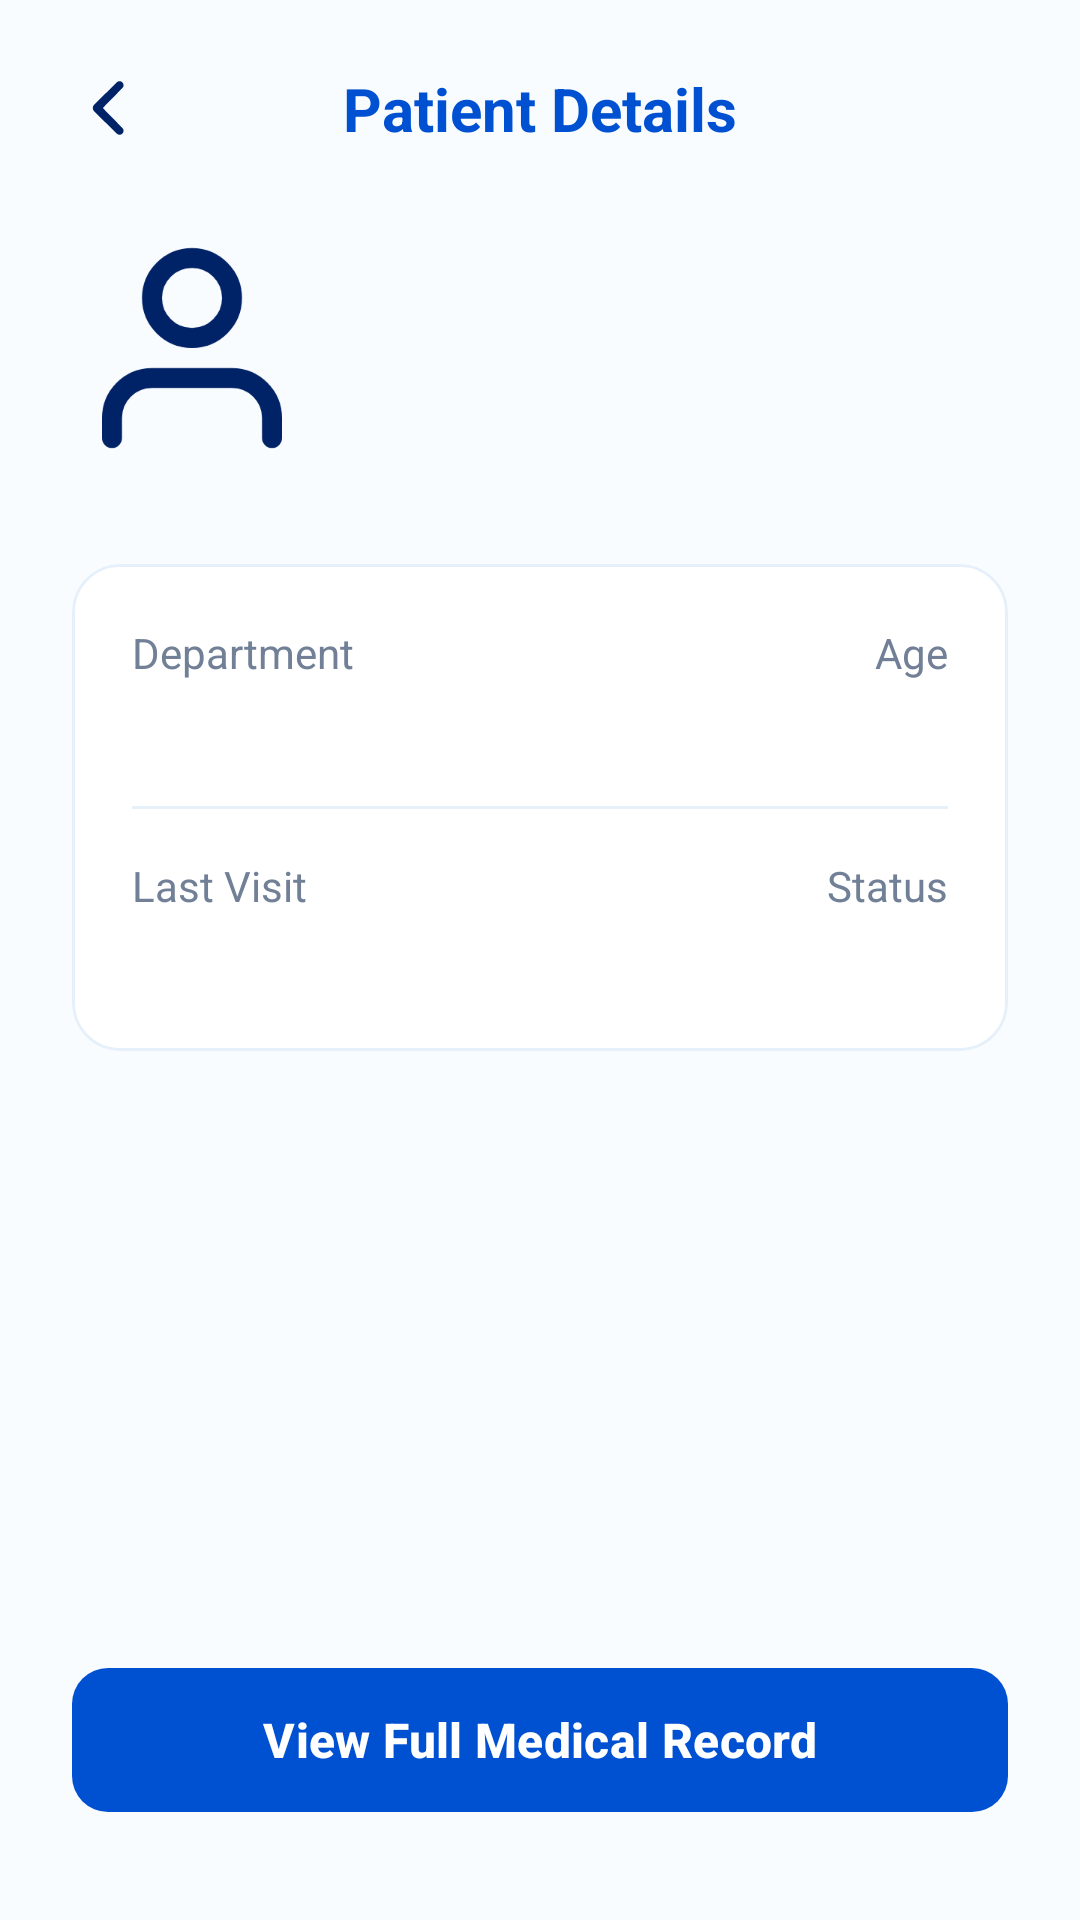

Icon click points for this 1080 x 1920 phone screenshot, format [x,y]:
left arrow: [108,108]
user: [192,348]
